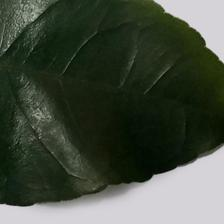healthy: (6, 7, 212, 142)
